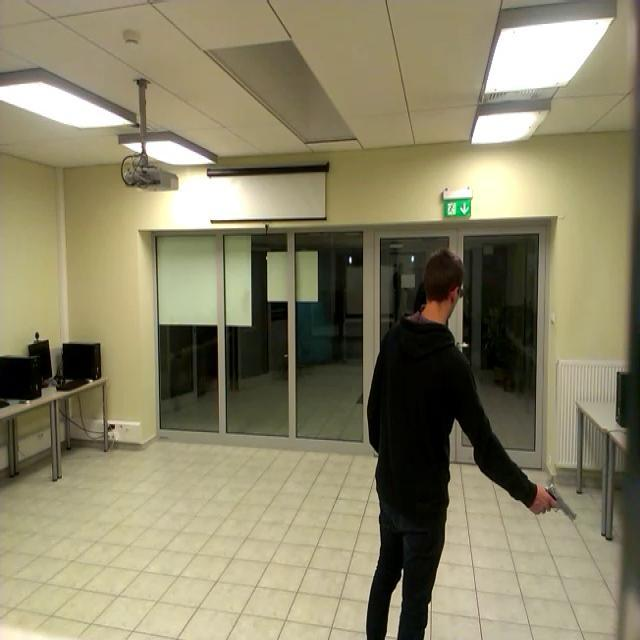Gun: (540, 464, 579, 528)
